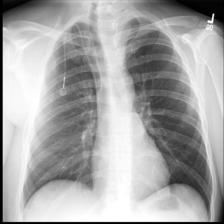normal: (16, 16, 218, 222)
